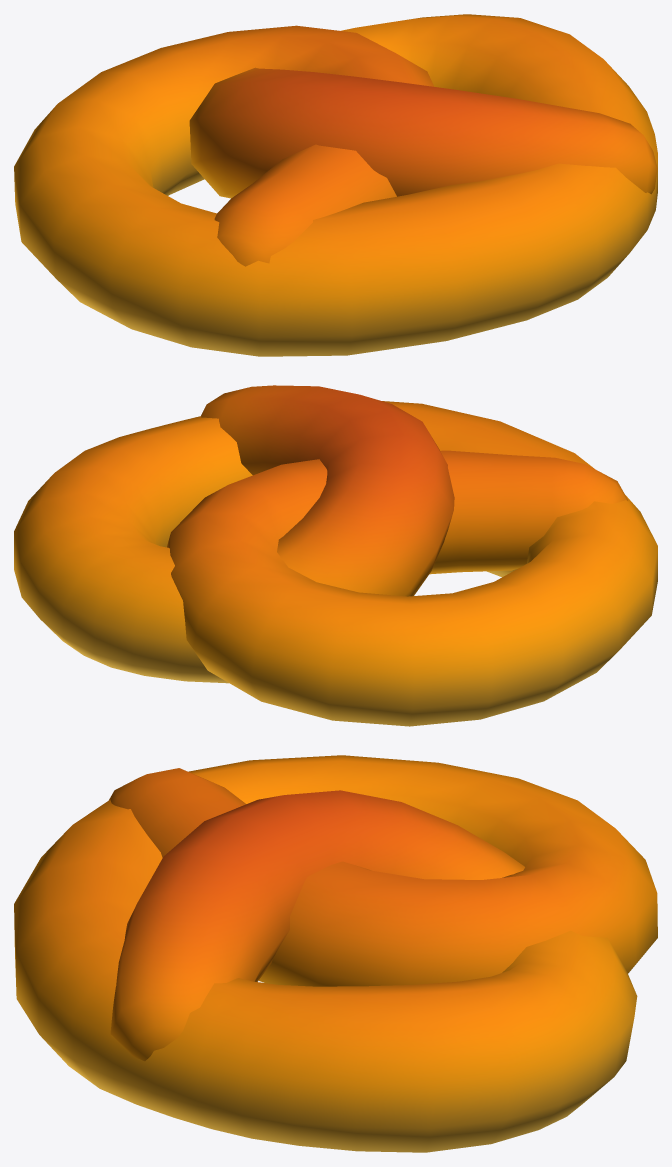
Rendered from pretzel_001.fbx.
3 views of the same model, one above another, from view 1: azimuth 30°, elevation 25°; view 2: azimuth 150°, elevation 25°; view 3: azimuth 270°, elevation 25° (orthographic). The views are drawn at different scales.
Visible parts, largest first — view 1: pretzel_001; view 2: pretzel_001; view 3: pretzel_001.
Boxes of the visible parts, <box> form: pretzel_001: <box>14,14,657,356</box>; pretzel_001: <box>14,385,657,726</box>; pretzel_001: <box>14,755,657,1152</box>.
Size of the model in its own units: 16.59 by 14.38 by 5.17.
